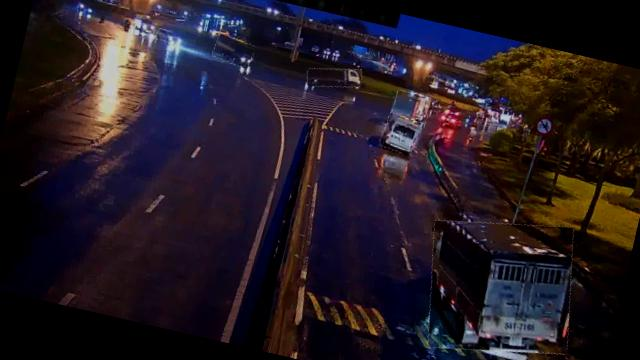Bus: (379, 112, 422, 156)
Truck: (412, 203, 588, 360), (305, 61, 364, 94), (390, 90, 432, 129), (212, 34, 256, 68)
